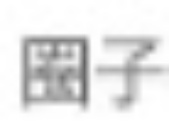TextView: (1, 1, 168, 139)
